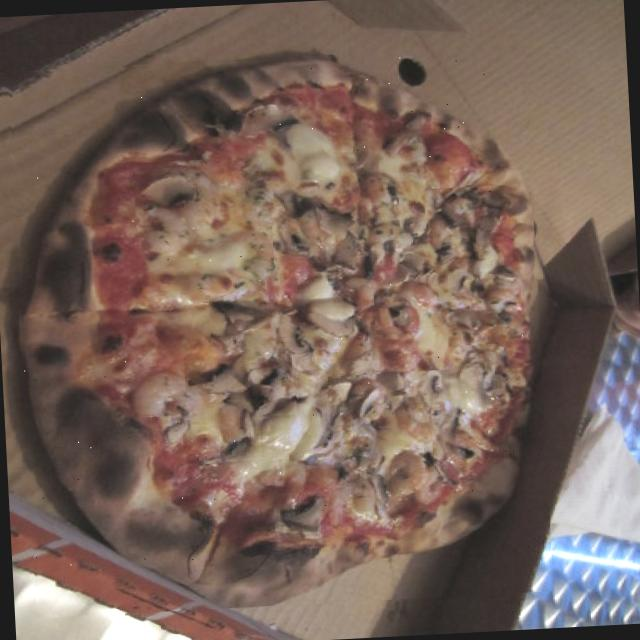mushrooms: (319, 213, 410, 284), (424, 184, 510, 252), (132, 158, 208, 226), (328, 372, 406, 429), (208, 292, 280, 349), (229, 357, 297, 416), (270, 185, 321, 262), (415, 257, 502, 299), (262, 312, 326, 369), (204, 396, 261, 460), (430, 397, 479, 470), (273, 490, 341, 534), (183, 352, 250, 393), (372, 274, 416, 331), (358, 171, 416, 212), (450, 342, 502, 386), (398, 368, 458, 402)
pizza: (21, 56, 534, 606)
